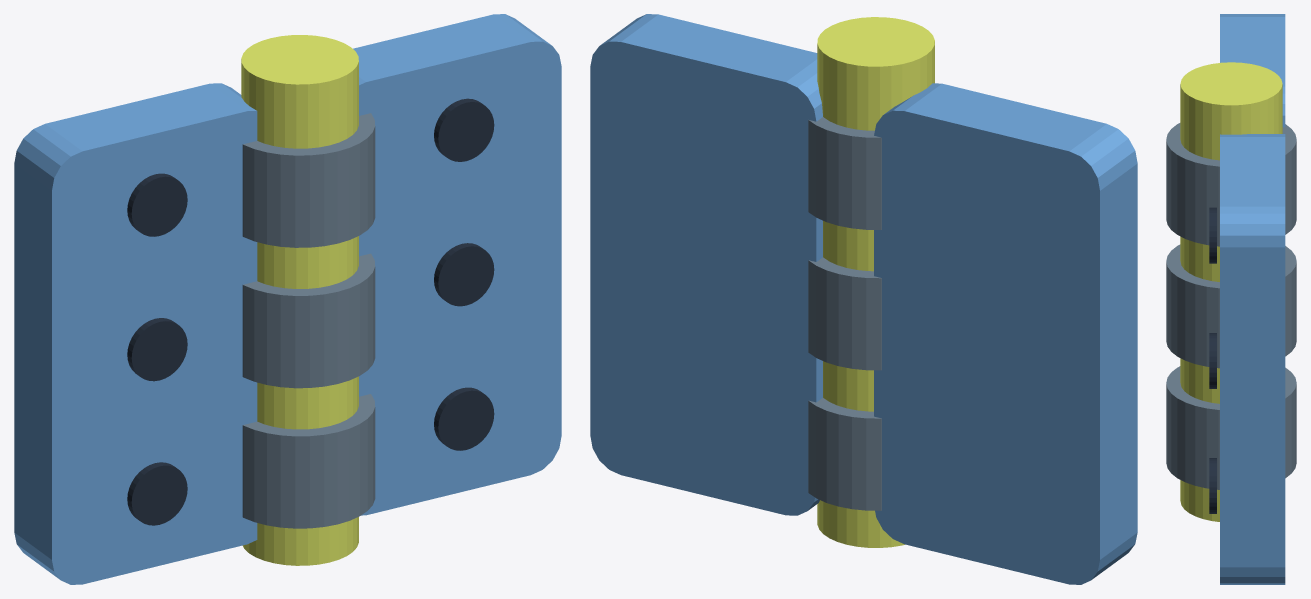
Rendered from hingeplate.glb.
3 views of the same model, side by side, from view 1: azimuth 30°, elevation 25°; view 2: azimuth 150°, elevation 25°; view 3: azimuth 270°, elevation 25° (orthographic). The views are drawn at different scales.
Parts seen in each view (by area): view 1: leaf-1, leaf1, pin, fixing hole (×6), knuckle0.24, knuckle0.94, knuckle0.59; view 2: leaf-1, leaf1, pin, knuckle0.24, knuckle0.59, knuckle0.94; view 3: leaf1, pin, knuckle0.24, knuckle0.59, knuckle0.94, leaf-1, fixing hole (×3).
Part boxes in pixels (box(x1,y1,x2,y2)): leaf-1: box(14, 83, 257, 584); leaf1: box(353, 14, 561, 515); pin: box(241, 35, 358, 565); fixing hole (×6): box(127, 98, 494, 525); knuckle0.24: box(242, 394, 375, 528); knuckle0.94: box(242, 113, 375, 247); knuckle0.59: box(242, 253, 375, 388); leaf-1: box(874, 83, 1137, 584); leaf1: box(590, 14, 822, 515); pin: box(817, 17, 934, 547); knuckle0.24: box(808, 398, 881, 510); knuckle0.59: box(808, 257, 881, 370); knuckle0.94: box(808, 117, 881, 229); leaf1: box(1220, 134, 1285, 584); pin: box(1180, 62, 1282, 521); knuckle0.24: box(1166, 366, 1296, 489); knuckle0.59: box(1166, 244, 1296, 368); knuckle0.94: box(1166, 123, 1296, 246); leaf-1: box(1220, 14, 1285, 127); fixing hole (×3): box(1209, 207, 1216, 513).
Bounding box in the file's own units: 1.33 × 1.2 × 0.34.
